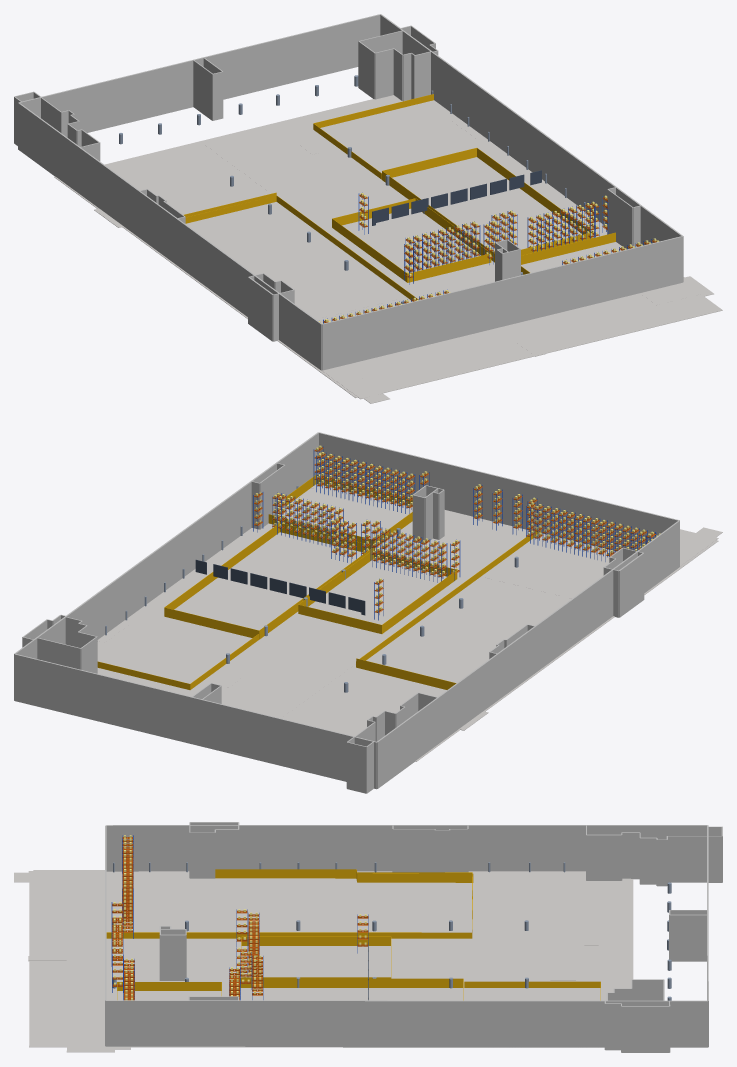
3 views of the same model, one above another, from view 1: azimuth 30°, elevation 25°; view 2: azimuth 150°, elevation 25°; view 3: azimuth 270°, elevation 25° (orthographic).
Visible parts, largest first — view 1: slab_slab_q25cp5kucvzisrko, wall_wall_zbi6sn5ii5k42go4, wall_wall_81go7x7270fo3zrs, wall_wall_oibojujk9mb94eto, wall_wall_pkae28rtsal4z948, wall_wall_slofg03amu2nohm8, wall_wall_pbxotrh2thpj2hi5, slab_slab_gak4mostbgnwgnmi, wall_wall_mphqoblrm6lfmhhc, wall_wall_9n0bgrklbijb2lbm, wall_wall_ag1cmna1qfqivx67, slab_slab_y8h91myw0iin255w (+21 smaller); view 2: slab_slab_q25cp5kucvzisrko, wall_wall_zbi6sn5ii5k42go4, wall_wall_81go7x7270fo3zrs, wall_wall_oibojujk9mb94eto, wall_wall_pkae28rtsal4z948, wall_wall_slofg03amu2nohm8, slab_slab_gak4mostbgnwgnmi, wall_wall_pbxotrh2thpj2hi5, wall_wall_mphqoblrm6lfmhhc, wall_wall_u5l0bxs83pqcqnee, wall_wall_9n0bgrklbijb2lbm, wall_wall_ag1cmna1qfqivx67 (+18 smaller); view 3: slab_slab_q25cp5kucvzisrko, wall_wall_pkae28rtsal4z948, wall_wall_slofg03amu2nohm8, wall_wall_pbxotrh2thpj2hi5, wall_wall_u5l0bxs83pqcqnee, wall_wall_9n0bgrklbijb2lbm, slab_slab_gak4mostbgnwgnmi, wall_wall_6c4weso3u929qjhh, wall_wall_rkap9pszb0irm5ft, fence_fence_lifdysbfzyrhtdpv, fence_fence_uwjv8xmpecemd8g6, wall_wall_19xuqpozli2wokvs (+33 smaller).
Boxes of the visible parts, box(x1,y1,x2,y2) form: slab_slab_q25cp5kucvzisrko: box(105, 95, 722, 393); wall_wall_zbi6sn5ii5k42go4: box(322, 236, 683, 370); wall_wall_81go7x7270fo3zrs: box(203, 14, 380, 99); wall_wall_oibojujk9mb94eto: box(41, 57, 203, 132); wall_wall_pkae28rtsal4z948: box(490, 95, 616, 224); wall_wall_slofg03amu2nohm8: box(138, 191, 254, 316); wall_wall_pbxotrh2thpj2hi5: box(79, 147, 139, 236); slab_slab_gak4mostbgnwgnmi: box(202, 140, 427, 319); wall_wall_mphqoblrm6lfmhhc: box(18, 103, 53, 174); wall_wall_9n0bgrklbijb2lbm: box(449, 65, 482, 134); wall_wall_ag1cmna1qfqivx67: box(248, 277, 273, 341); slab_slab_y8h91myw0iin255w: box(54, 99, 375, 397); slab_slab_q25cp5kucvzisrko: box(97, 488, 695, 736); wall_wall_zbi6sn5ii5k42go4: box(318, 432, 679, 551); wall_wall_81go7x7270fo3zrs: box(14, 654, 191, 743); wall_wall_oibojujk9mb94eto: box(191, 697, 354, 781); wall_wall_pkae28rtsal4z948: box(125, 481, 251, 617); wall_wall_slofg03amu2nohm8: box(497, 569, 613, 699); slab_slab_gak4mostbgnwgnmi: box(271, 533, 577, 718); wall_wall_pbxotrh2thpj2hi5: box(437, 654, 498, 743); wall_wall_mphqoblrm6lfmhhc: box(377, 717, 411, 788); wall_wall_u5l0bxs83pqcqnee: box(276, 432, 318, 496); wall_wall_9n0bgrklbijb2lbm: box(83, 580, 116, 639); wall_wall_ag1cmna1qfqivx67: box(619, 553, 644, 617); slab_slab_q25cp5kucvzisrko: box(29, 871, 630, 1047); wall_wall_pkae28rtsal4z948: box(238, 1000, 488, 1047); wall_wall_slofg03amu2nohm8: box(239, 825, 467, 871); wall_wall_pbxotrh2thpj2hi5: box(468, 825, 585, 871); wall_wall_u5l0bxs83pqcqnee: box(106, 1000, 188, 1046); wall_wall_9n0bgrklbijb2lbm: box(507, 1000, 570, 1047); slab_slab_gak4mostbgnwgnmi: box(121, 882, 629, 945); wall_wall_6c4weso3u929qjhh: box(189, 1000, 238, 1046); wall_wall_rkap9pszb0irm5ft: box(621, 1006, 669, 1052); fence_fence_lifdysbfzyrhtdpv: box(234, 978, 463, 987); fence_fence_uwjv8xmpecemd8g6: box(106, 932, 471, 938); wall_wall_19xuqpozli2wokvs: box(393, 829, 434, 872).
Size of the model in its own units: 107 by 12.5 by 173.
